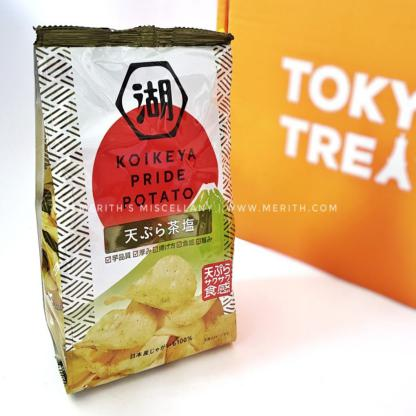potatochip: (22, 18, 240, 402)
